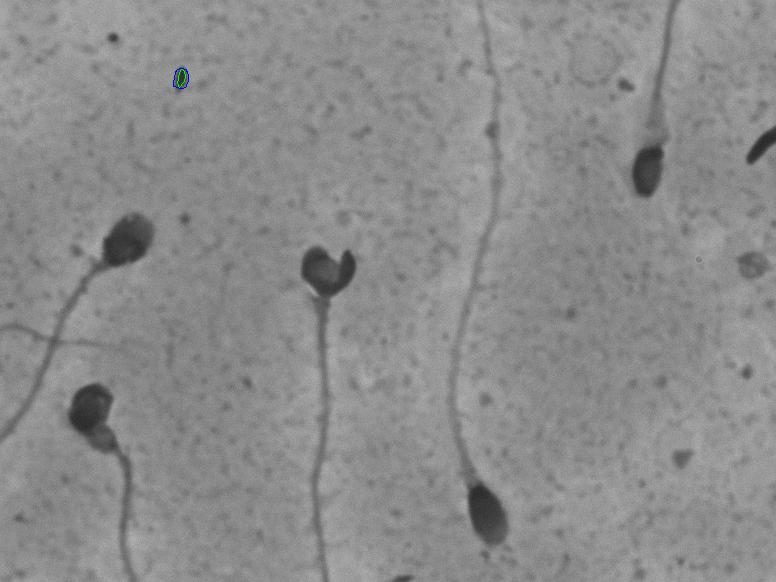Abnormal: (270, 229, 364, 560), (28, 165, 191, 341), (36, 372, 171, 563), (603, 36, 707, 217)
Normal: (396, 2, 536, 555)
